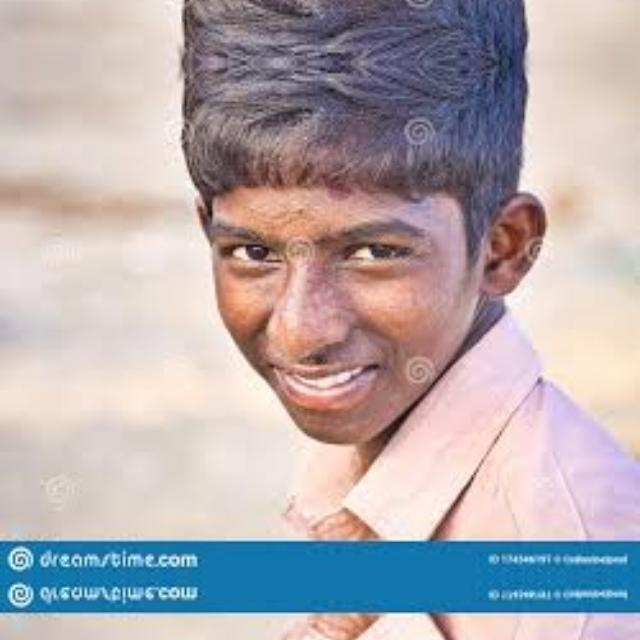person: (170, 62, 600, 544), (169, 0, 600, 62), (169, 609, 600, 640)
